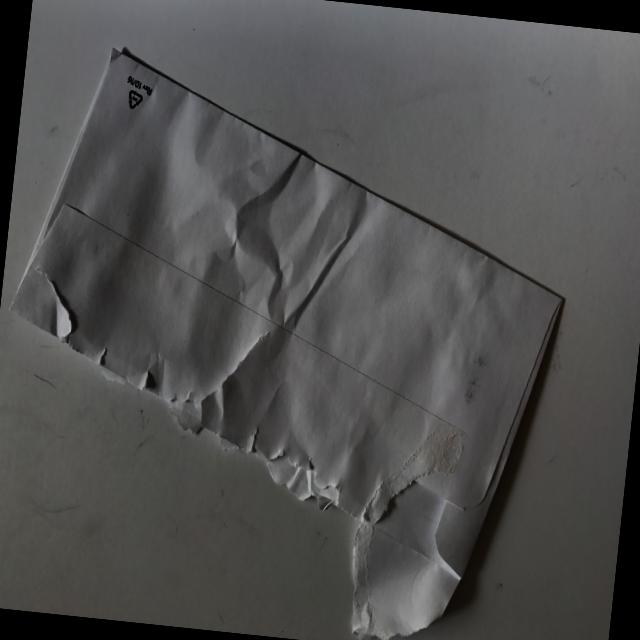Paper: (0, 19, 626, 640)
